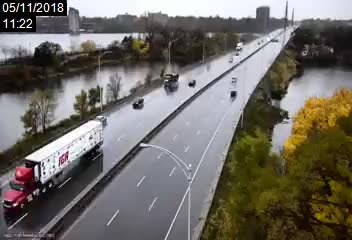personal_car: (94, 113, 109, 130), (129, 95, 145, 109), (187, 78, 197, 87), (229, 88, 238, 97), (230, 75, 238, 83)
truck: (2, 120, 102, 211), (162, 71, 180, 91)
